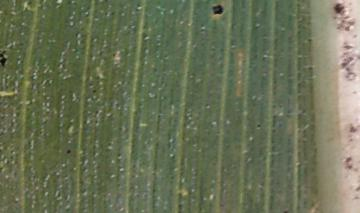tarspot: (210, 3, 224, 17), (1, 49, 10, 69), (332, 1, 345, 14), (254, 122, 263, 130), (65, 148, 72, 155), (110, 52, 117, 59), (91, 88, 97, 94), (103, 1, 109, 3)
